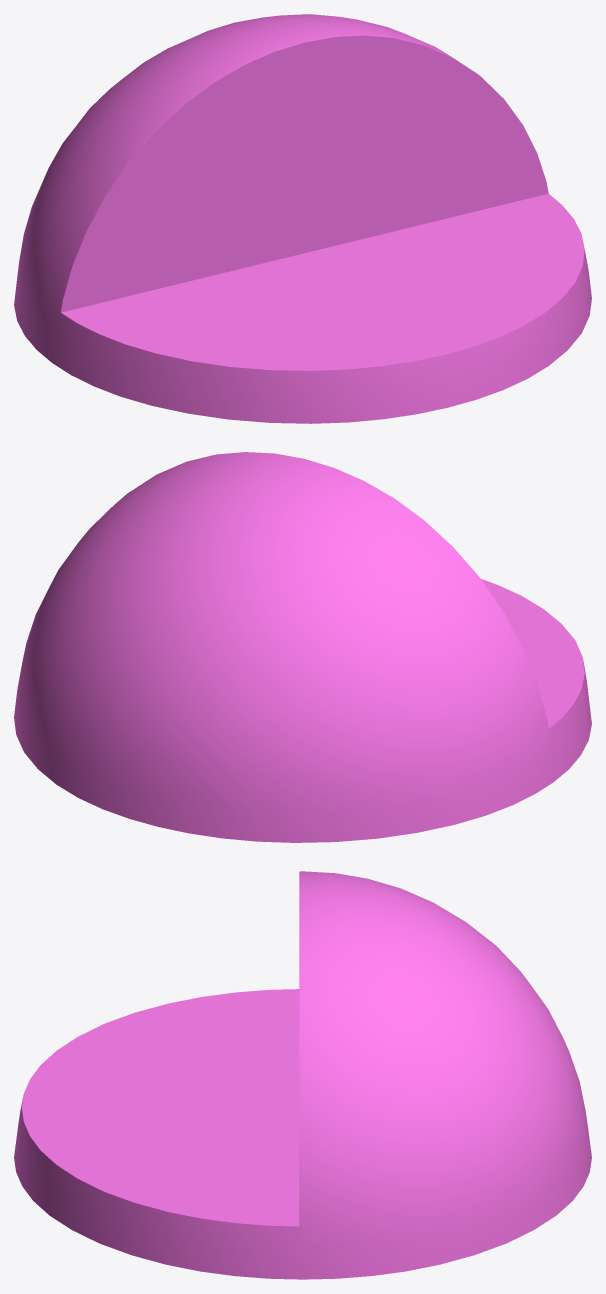
Rendered from cromatina.glb.
The picture shows the model from 3 angles, top to bottom: view 1: azimuth 30°, elevation 25°; view 2: azimuth 150°, elevation 25°; view 3: azimuth 270°, elevation 25°; orthographic projection.
Parts seen in each view (by area): view 1: Roundcube; view 2: Roundcube; view 3: Roundcube.
Boxes of the visible parts, box(x1,y1,x2,y2) form: Roundcube: box(14, 14, 591, 423); Roundcube: box(14, 452, 591, 842); Roundcube: box(14, 871, 591, 1279).
Bounding box in the file's own units: 1.94 × 0.9614 × 1.94.
